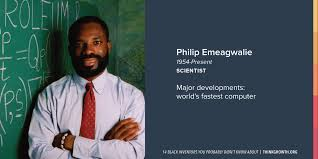black_male: (72, 19, 108, 78)
